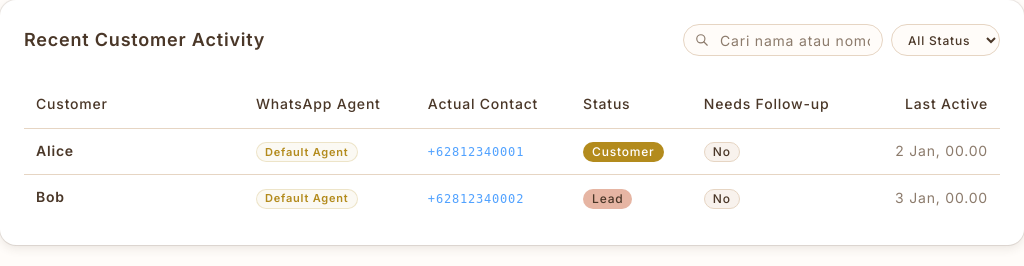
Test case: RecentActivityTable component › search input filters leads by phone number
Type "628111" into the field with placeholder "Cari nama atau nomor..." at coordinates (783, 40), box top-left (683, 24), bottom-right (883, 56)
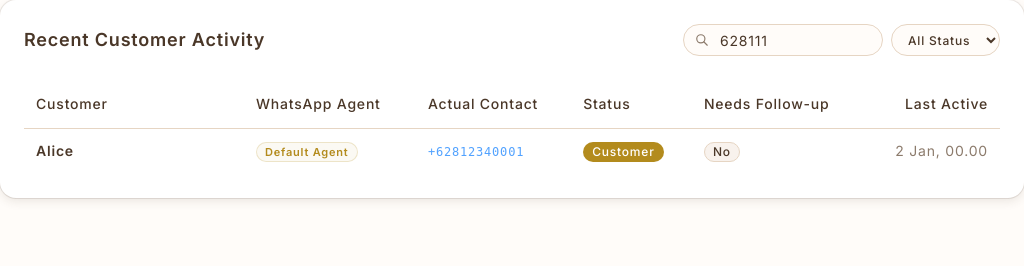
Expected: the text "Alice" is shown, top-left (24, 128), bottom-right (244, 172)
Now the text "Bob" is gone
